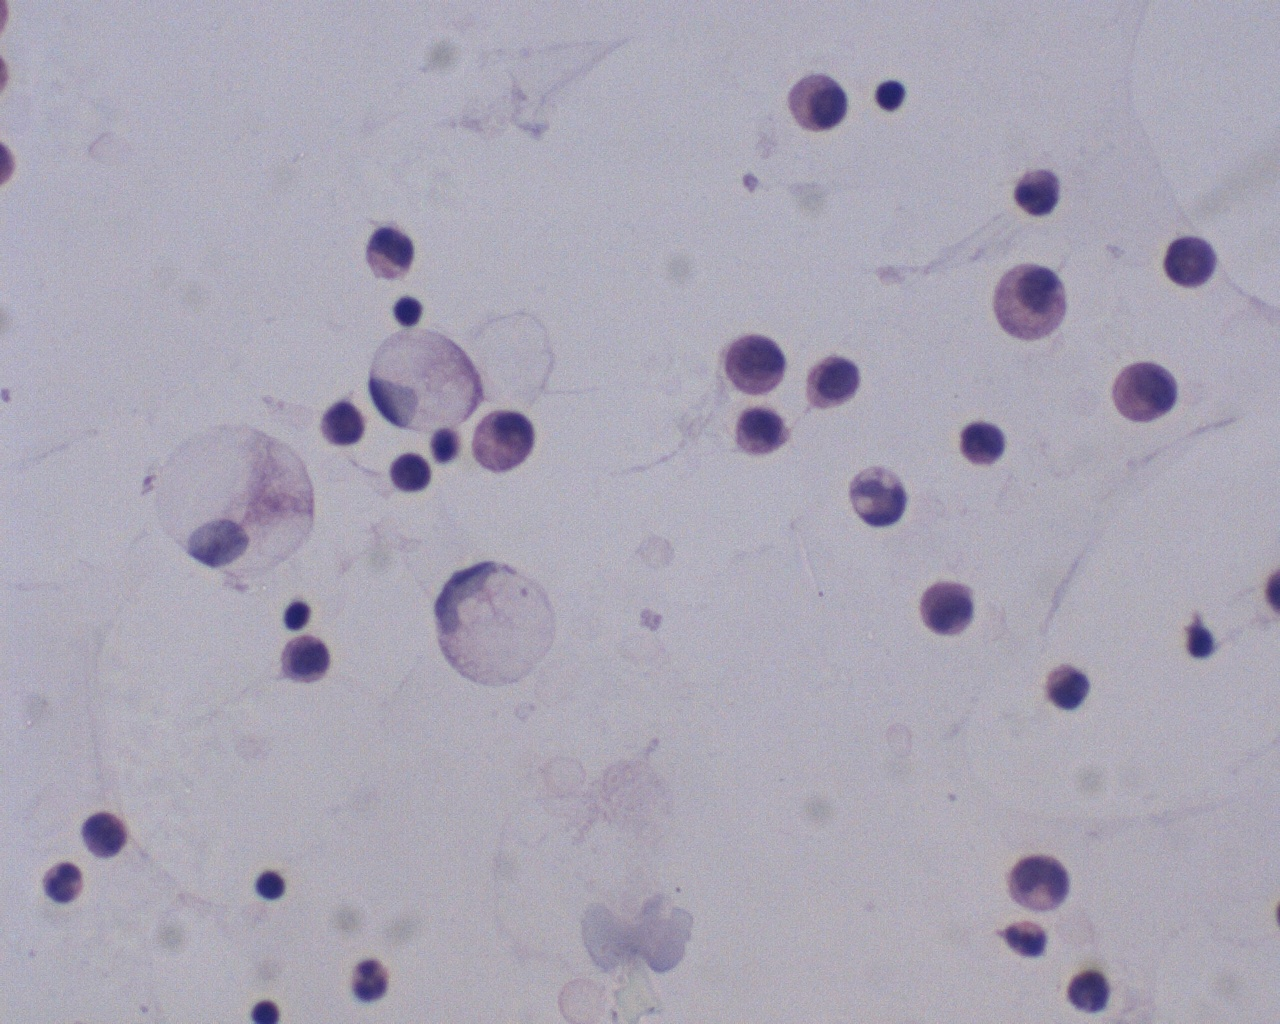ab: (719, 329, 791, 398), (914, 573, 983, 641), (1156, 229, 1224, 295), (804, 352, 867, 413), (275, 628, 334, 688), (734, 402, 791, 461)
histo: (147, 420, 328, 583), (419, 555, 574, 693), (364, 326, 493, 429)
lymph: (278, 597, 318, 635), (249, 867, 290, 904)
meso: (1103, 345, 1189, 433), (782, 72, 856, 132)
neutro: (349, 956, 399, 1005), (1004, 918, 1051, 960)
